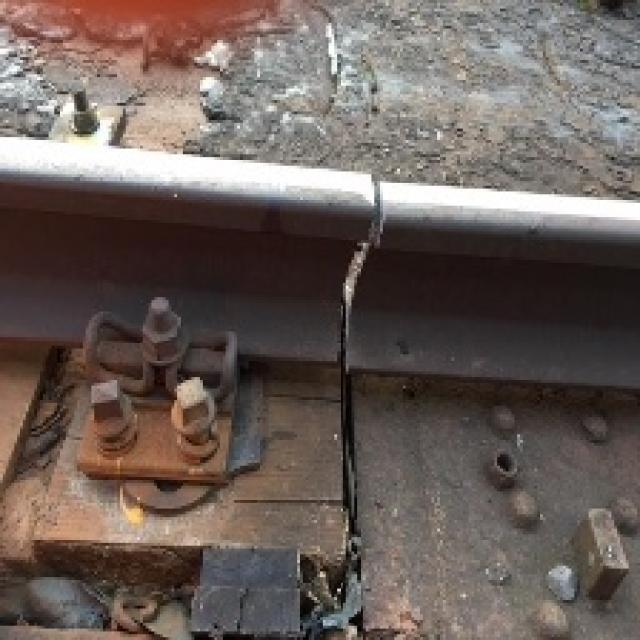Good Fasteners: (48, 307, 256, 474)
